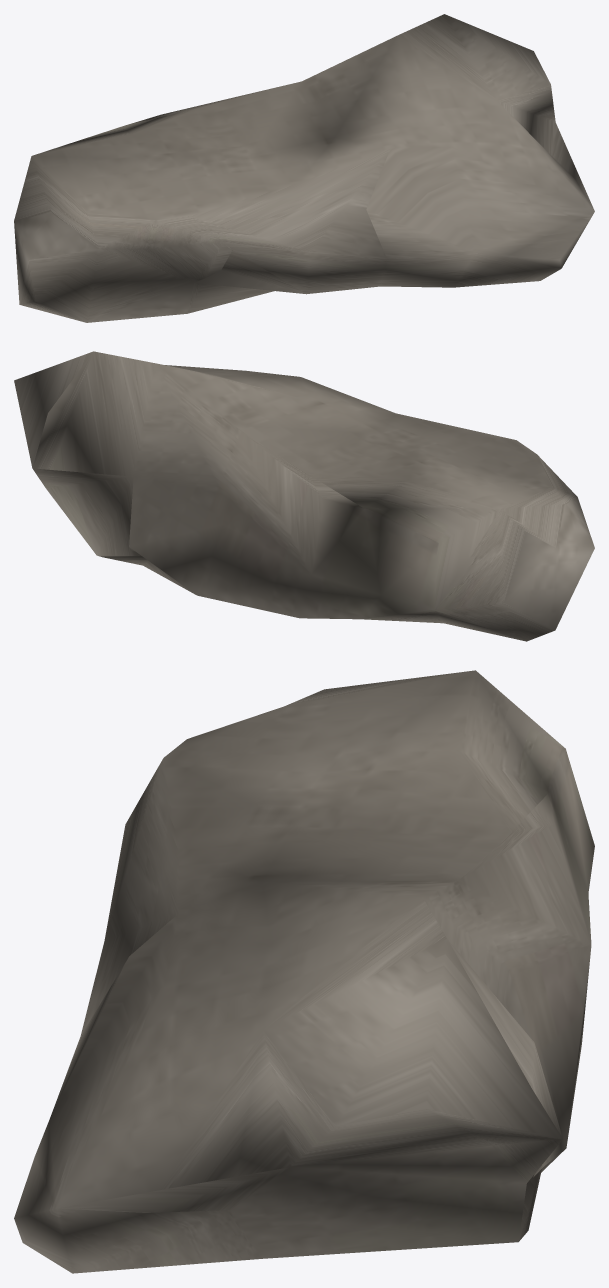
File: rock-moon-01.lite.08feccef.glb
The picture shows the model from 3 angles, top to bottom: view 1: azimuth 30°, elevation 25°; view 2: azimuth 150°, elevation 25°; view 3: azimuth 270°, elevation 25°; orthographic projection. The views are drawn at different scales.
Parts seen in each view (by area): view 1: model; view 2: model; view 3: model.
Boxes of the visible parts, x1,y1,x2,y2 form: model: [14, 14, 594, 322]; model: [14, 351, 594, 641]; model: [14, 670, 594, 1273].
Bounding box in the file's own units: 0.2091 × 0.074 × 0.1088.
1 material, 1 textured.
